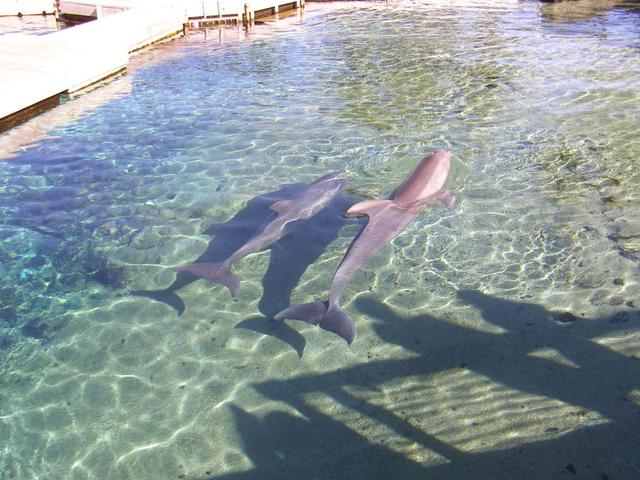dolphin: (267, 143, 481, 353)
